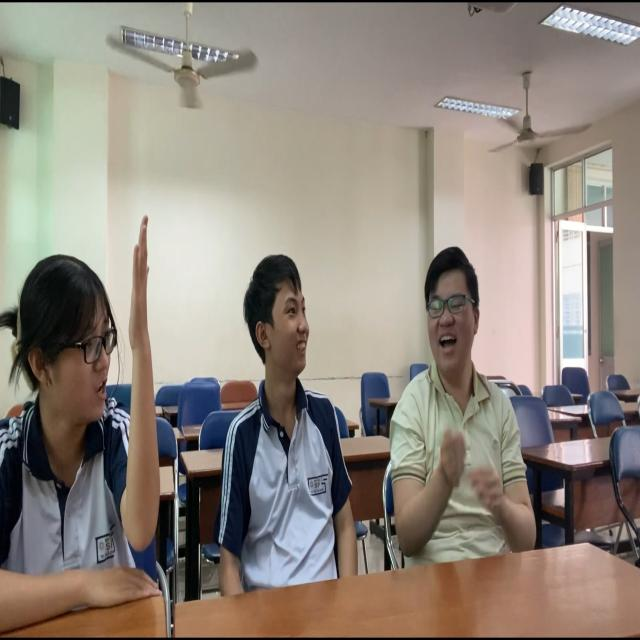raise_hand: (1, 203, 170, 640)
